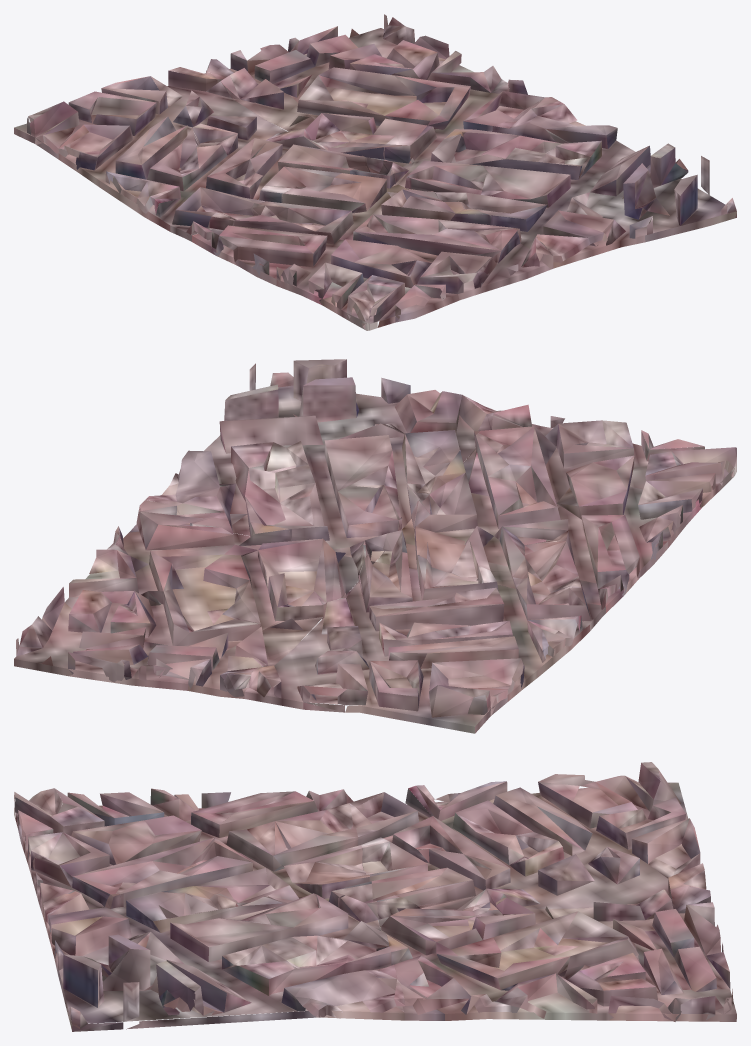
The picture shows the model from 3 angles, top to bottom: view 1: azimuth 30°, elevation 25°; view 2: azimuth 150°, elevation 25°; view 3: azimuth 270°, elevation 25°; orthographic projection. The views are drawn at different scales.
Parts seen in each view (by area): view 1: Mesh_0; view 2: Mesh_0; view 3: Mesh_0.
Boxes of the visible parts, bbox=[...] form: Mesh_0: bbox=[14, 14, 736, 330]; Mesh_0: bbox=[14, 359, 736, 733]; Mesh_0: bbox=[14, 762, 736, 1031].
Bounding box in the file's own units: 533 × 71.81 × 659.
Materials: 2 (2 with a texture image).
